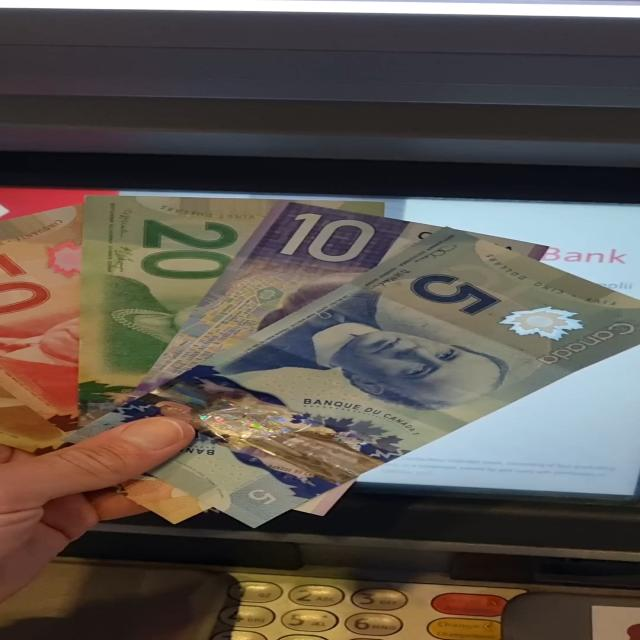10 cad: (133, 202, 441, 395)
20 cad: (79, 195, 297, 426)
5 cad: (144, 228, 640, 524)
